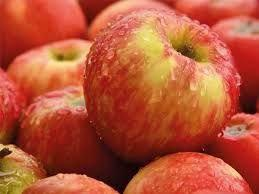Apple: (84, 11, 241, 164)
